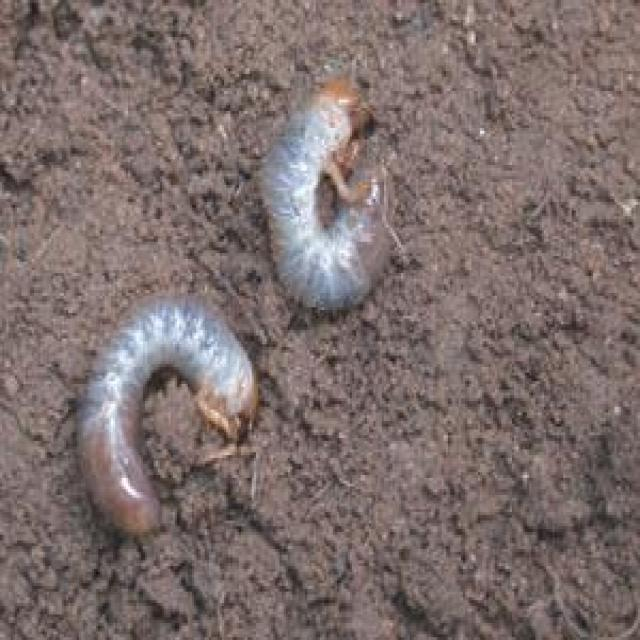grub: (70, 296, 269, 532), (258, 77, 422, 319)
